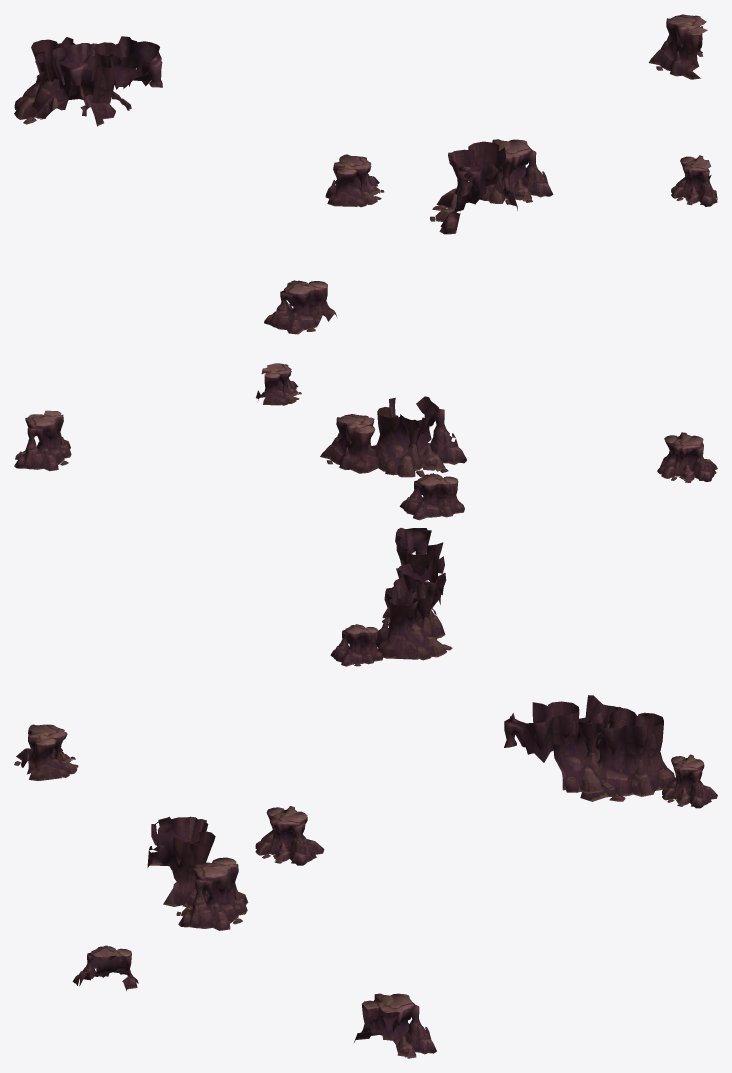
Rendered from area15_shiqiang_01.FBX.
3 views of the same model, one above another, from view 1: azimuth 30°, elevation 25°; view 2: azimuth 150°, elevation 25°; view 3: azimuth 270°, elevation 25° (orthographic). The views are drawn at different scales.
Parts seen in each view (by area): view 1: area15_shiqiang_01; view 2: area15_shiqiang_01; view 3: area15_shiqiang_01.
Boxes of the visible parts, x1,y1,x2,y2 form: area15_shiqiang_01: [14, 14, 717, 334]; area15_shiqiang_01: [14, 363, 717, 666]; area15_shiqiang_01: [14, 695, 717, 1058].
Size of the model in its own units: 11880 by 1584 by 11338.
